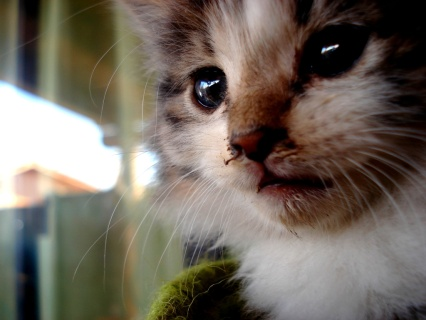Cat: (4, 0, 426, 319)
